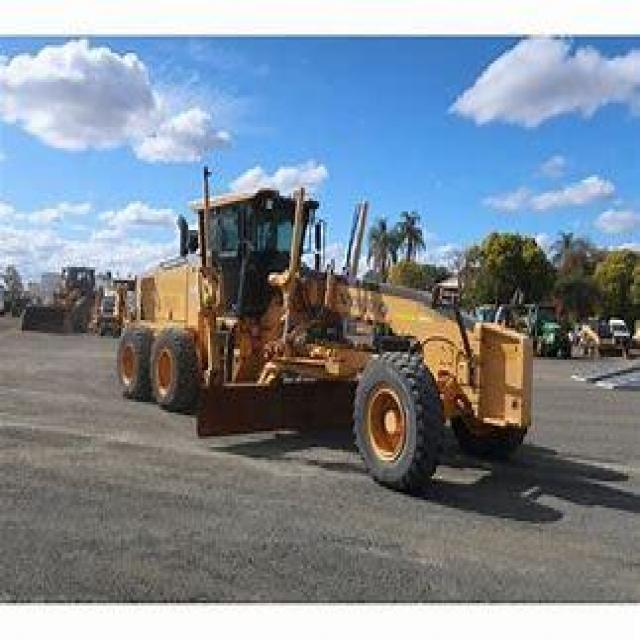Grader: (97, 172, 551, 494)
